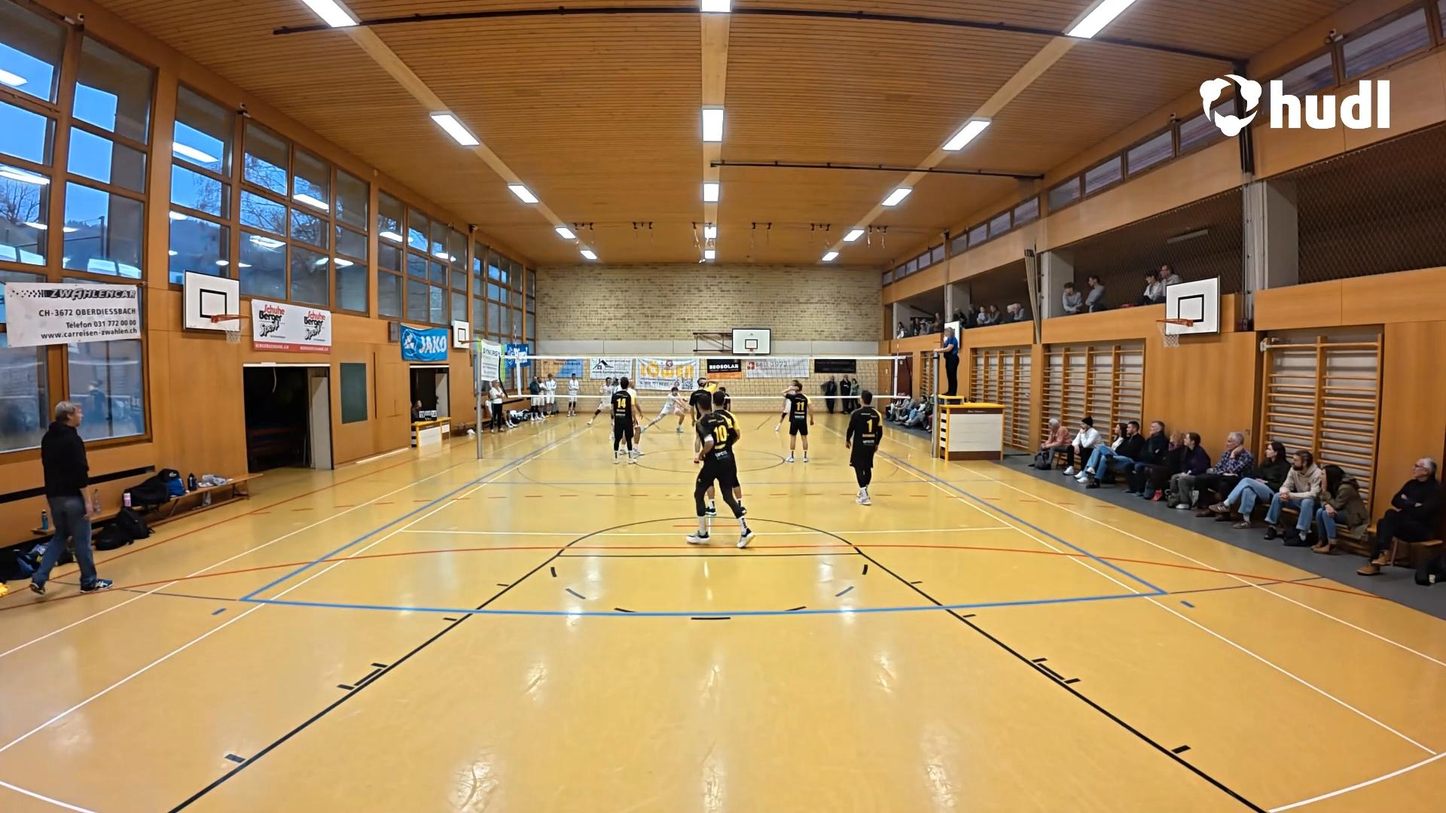Player: (689, 393, 752, 545), (845, 394, 881, 504), (606, 373, 639, 465), (693, 380, 732, 452), (786, 381, 812, 461), (584, 368, 614, 430)
Receive: (641, 381, 694, 435)
ball: (679, 396, 689, 406)
